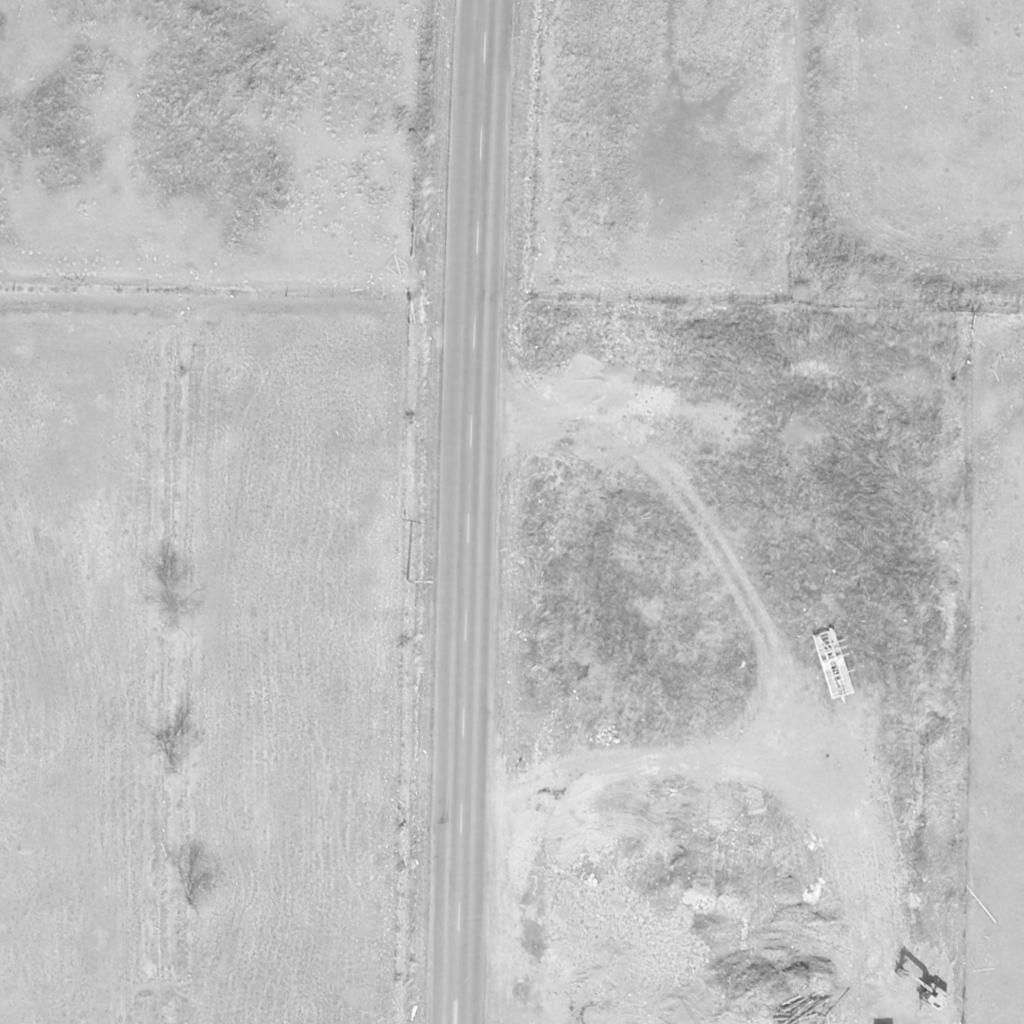vehicle: (890, 962, 952, 1012)
